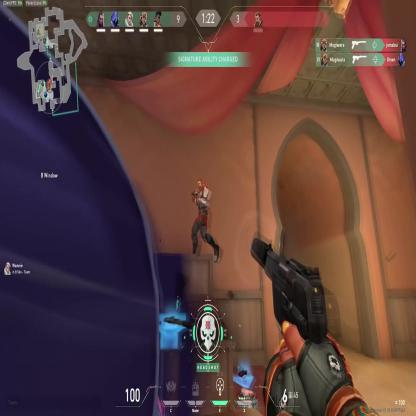enemy: (190, 176, 219, 260)
enemy_head: (196, 178, 203, 192)
